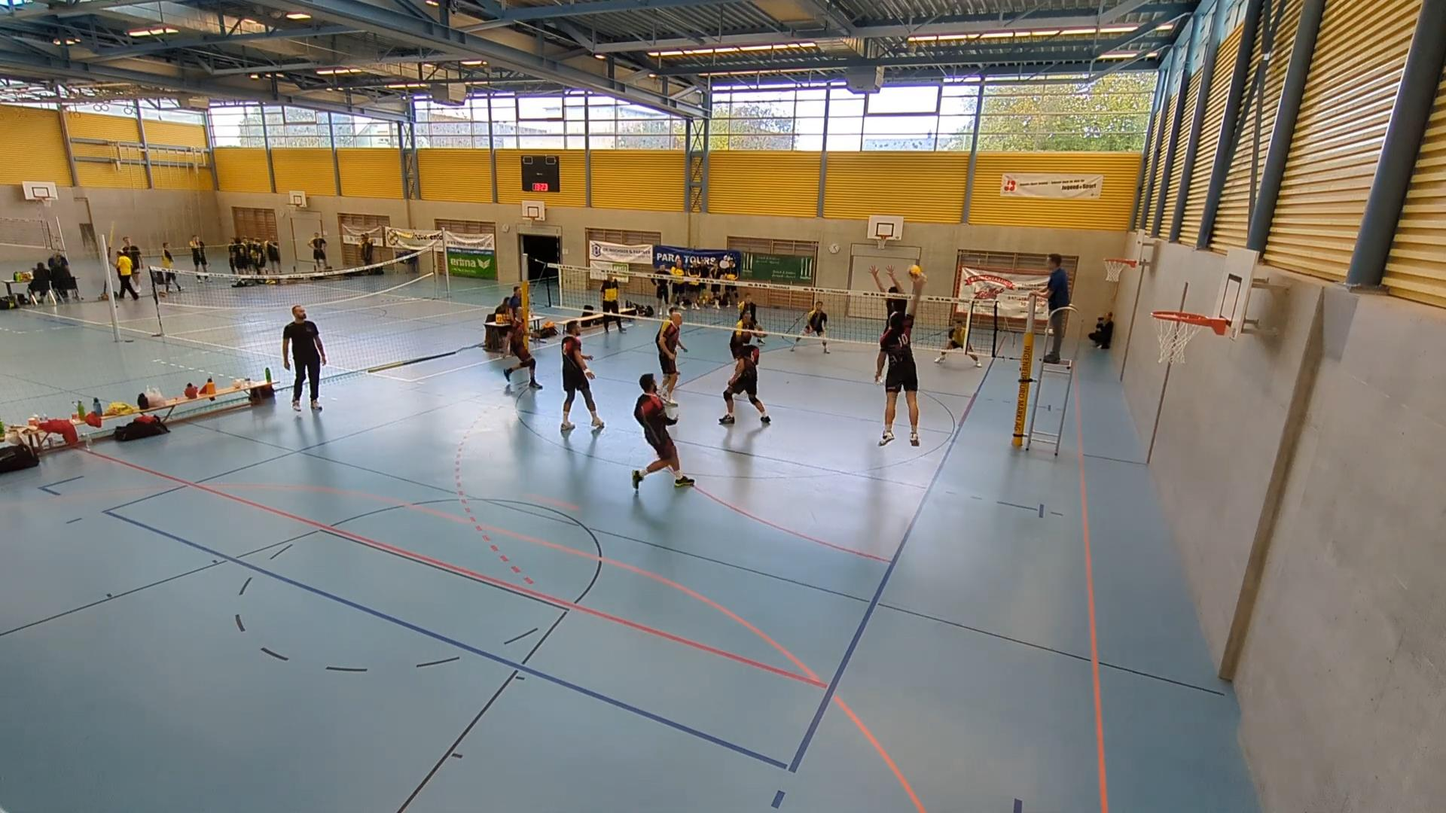attacco: (874, 269, 922, 451)
muro: (862, 265, 908, 388)
